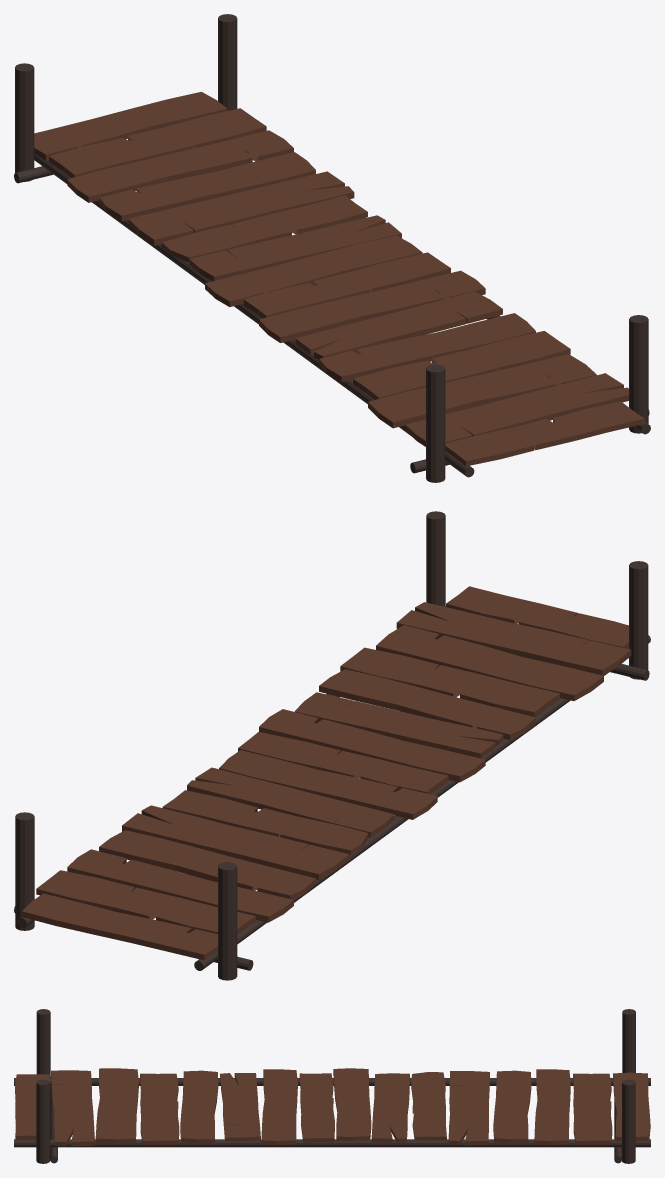
The model's file is bridge02b.fbx.
The picture shows the model from 3 angles, top to bottom: view 1: azimuth 30°, elevation 25°; view 2: azimuth 150°, elevation 25°; view 3: azimuth 270°, elevation 25°; orthographic projection. The views are drawn at different scales.
Parts seen in each view (by area): view 1: b2p, b2m; view 2: b2p, b2m; view 3: b2p, b2m.
Boxes of the visible parts, left/top/right/bottom form: b2p: left=34, top=91, right=644, bottom=466; b2m: left=14, top=14, right=650, bottom=482; b2p: left=22, top=586, right=631, bottom=960; b2m: left=14, top=511, right=650, bottom=980; b2p: left=15, top=1068, right=650, bottom=1146; b2m: left=14, top=1009, right=650, bottom=1163.
Bounding box in the file's own units: 1060 × 478 × 3511.
